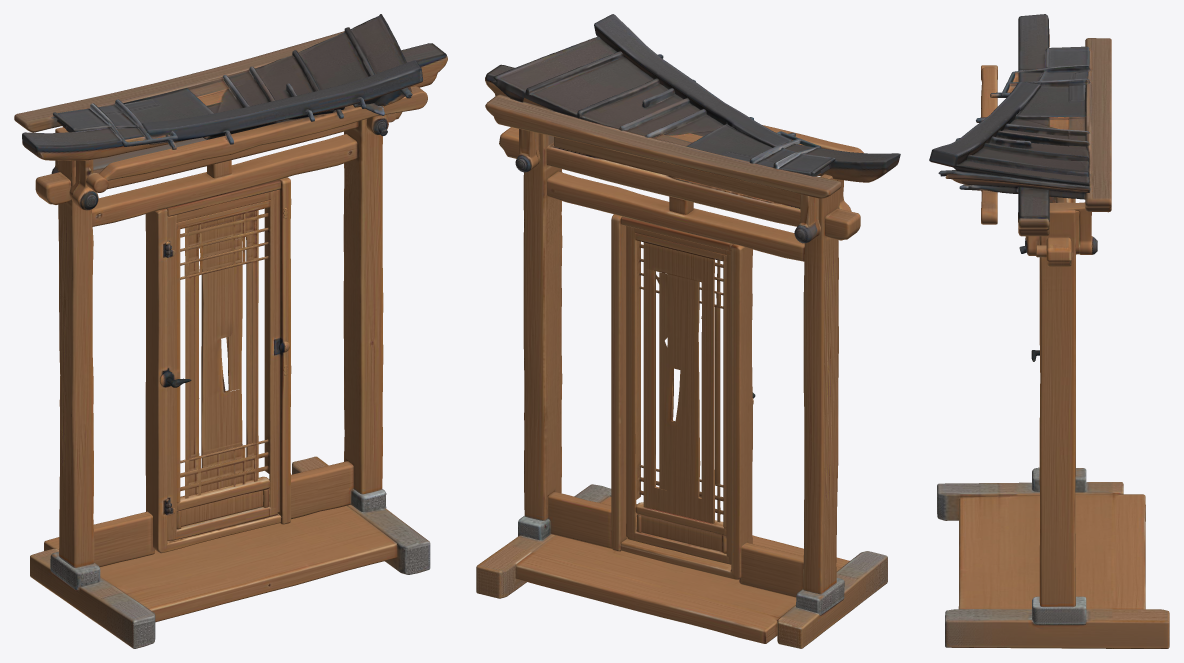
File: toonstudio_hanok_door.glb
3 renders of one model, left to right at view 1: azimuth 30°, elevation 25°; view 2: azimuth 150°, elevation 25°; view 3: azimuth 270°, elevation 25°, orthographic. The views are drawn at different scales.
Parts seen in each view (by area): view 1: tripo_1be7eb8b_da8d_4b36_b54f_78ee56100275; view 2: tripo_1be7eb8b_da8d_4b36_b54f_78ee56100275; view 3: tripo_1be7eb8b_da8d_4b36_b54f_78ee56100275.
Part boxes in pixels (x1,y1,x2,y2): tripo_1be7eb8b_da8d_4b36_b54f_78ee56100275: (14, 14, 447, 648); tripo_1be7eb8b_da8d_4b36_b54f_78ee56100275: (476, 14, 900, 648); tripo_1be7eb8b_da8d_4b36_b54f_78ee56100275: (929, 14, 1169, 648).
Bounding box in the file's own units: 1.85 × 2.2 × 0.9683.
Materials: 1 (1 with a texture image).
